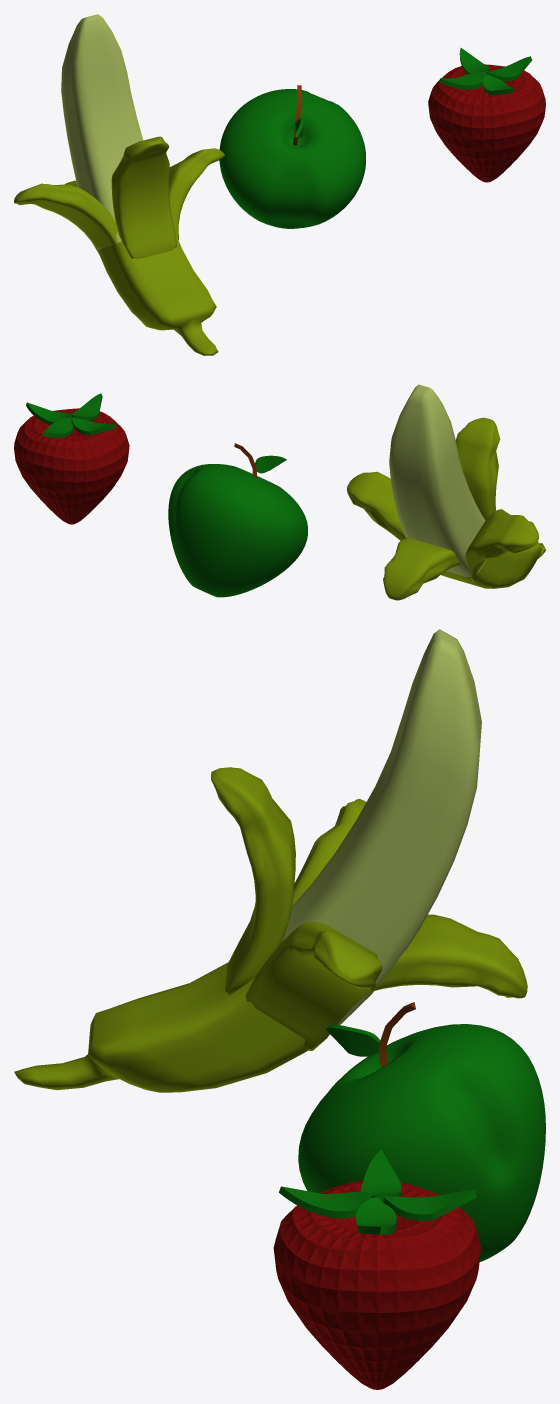
The model's file is Frutas.fbx.
The picture shows the model from 3 angles, top to bottom: view 1: azimuth 30°, elevation 25°; view 2: azimuth 150°, elevation 25°; view 3: azimuth 270°, elevation 25°; orthographic projection. The views are drawn at different scales.
Parts seen in each view (by area): view 1: Object002, Object001, Sphere036, Object046, Object047, Object048, Object049; view 2: Object002, Object001, Sphere036, Object046, Object047, Object049, Object048, Object045; view 3: Object002, Object001, Sphere036, Object049, Object048, Object046, Object047, Object045.
Part boxes in pixels (x1=…): Object002: x1=14, y1=14, x2=224, y2=355; Object001: x1=219, y1=85, x2=365, y2=228; Sphere036: x1=428, y1=64, x2=545, y2=182; Object046: x1=439, y1=72, x2=485, y2=89; Object047: x1=487, y1=56, x2=531, y2=81; Object048: x1=459, y1=48, x2=489, y2=74; Object049: x1=482, y1=74, x2=512, y2=95; Object002: x1=347, y1=384, x2=545, y2=600; Object001: x1=168, y1=443, x2=307, y2=597; Sphere036: x1=14, y1=408, x2=129, y2=524; Object046: x1=72, y1=417, x2=115, y2=435; Object047: x1=26, y1=402, x2=72, y2=425; Object049: x1=71, y1=393, x2=102, y2=421; Object048: x1=42, y1=418, x2=72, y2=437; Object045: x1=255, y1=455, x2=286, y2=473; Object002: x1=14, y1=629, x2=527, y2=1092; Object001: x1=298, y1=1002, x2=545, y2=1261; Sphere036: x1=273, y1=1180, x2=481, y2=1389; Object049: x1=279, y1=1186, x2=371, y2=1218; Object048: x1=383, y1=1189, x2=476, y2=1221; Object046: x1=360, y1=1149, x2=401, y2=1202; Object047: x1=355, y1=1197, x2=396, y2=1234; Object045: x1=325, y1=1024, x2=380, y2=1056.
Size of the model in its own units: 65.67 by 30.73 by 32.82.
